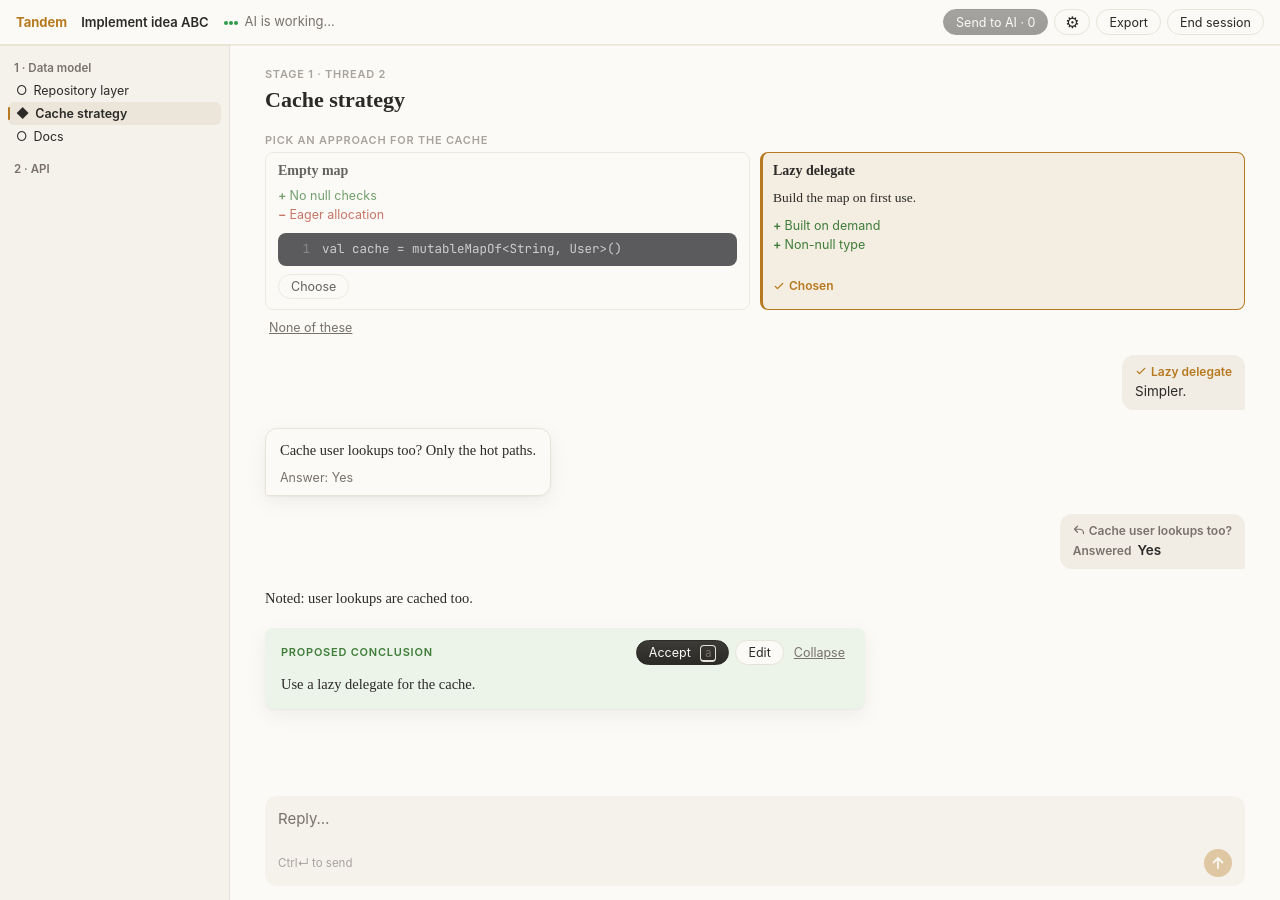
it: SessionPage › does not advance after Accept resolves if the user already navigated elsewhere (fix round 1, Important)
Expected: the heading "Cache strategy" is shown, x1=265 y1=87 x2=405 y2=112
Click the button "Accept a". click: click(683, 653)
box: x1=636 y1=640 x2=729 y2=665
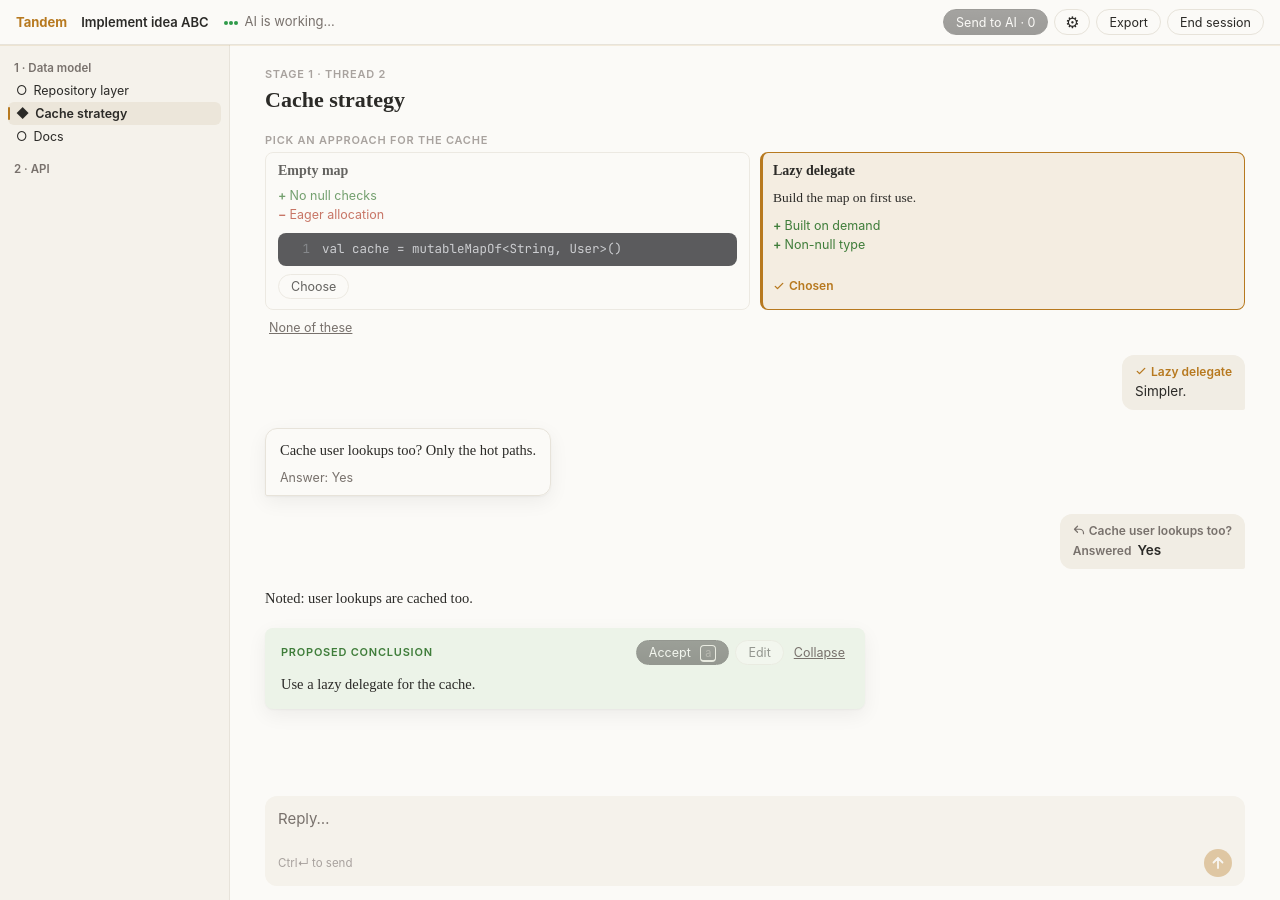
Type keys "k"
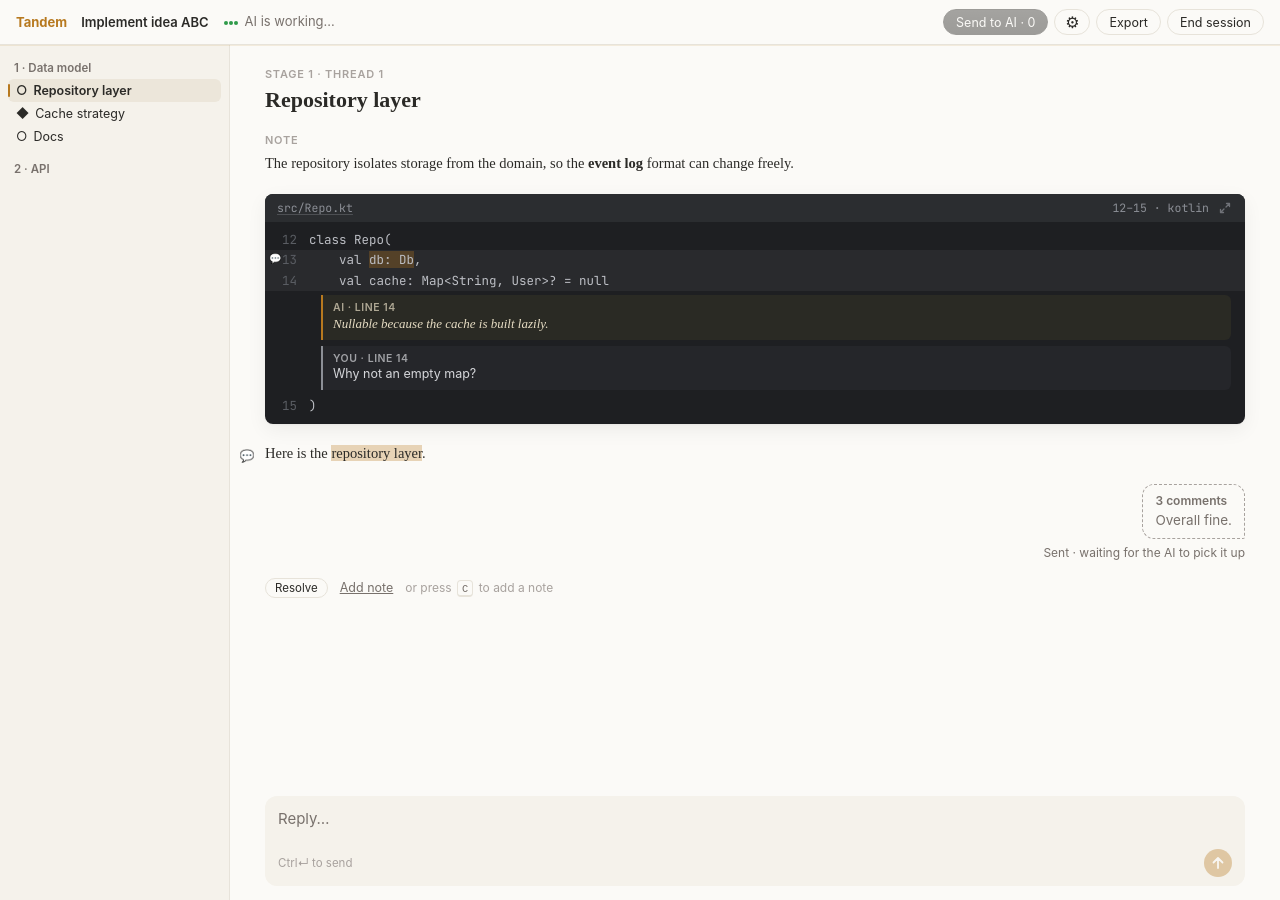
Result: the heading "Repository layer" is shown at x1=265 y1=87 x2=421 y2=112
